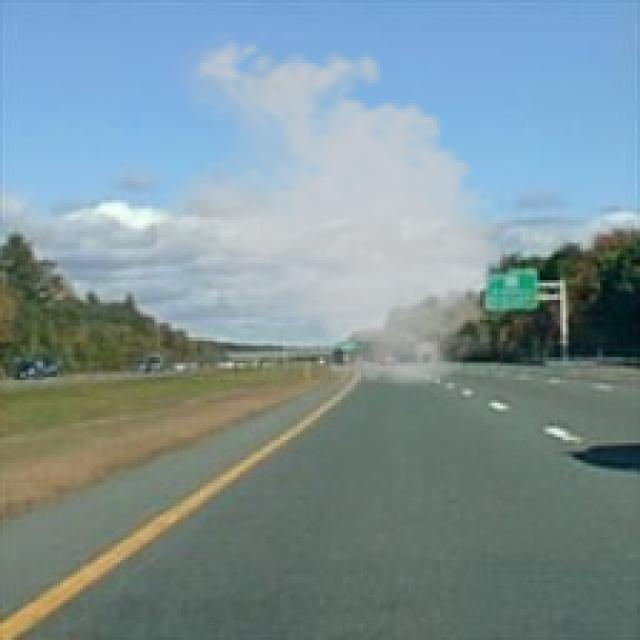smoke: (151, 29, 523, 394)
